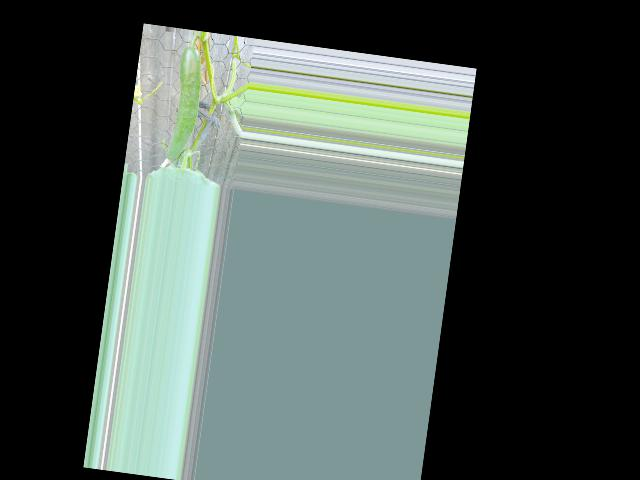cucumber: (166, 45, 207, 161)
